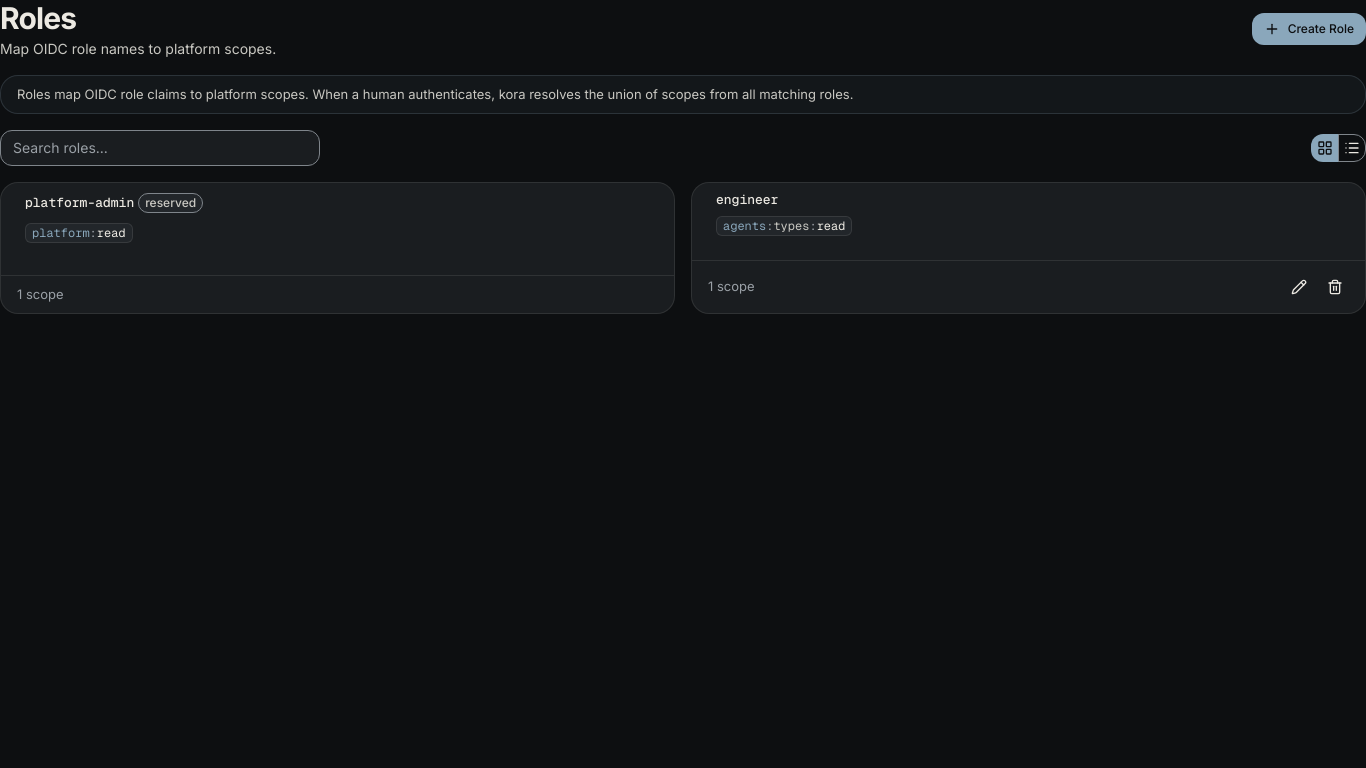
Scenario: RolesTab without the scope vocabulary › lists roles without an error and limits the editor to the role scopes
What coordinates should you click on to do the following:
click the button named "Edit role"
I would click on:
 (1299, 286)
Its box is x1=1285 y1=272 x2=1313 y2=300.
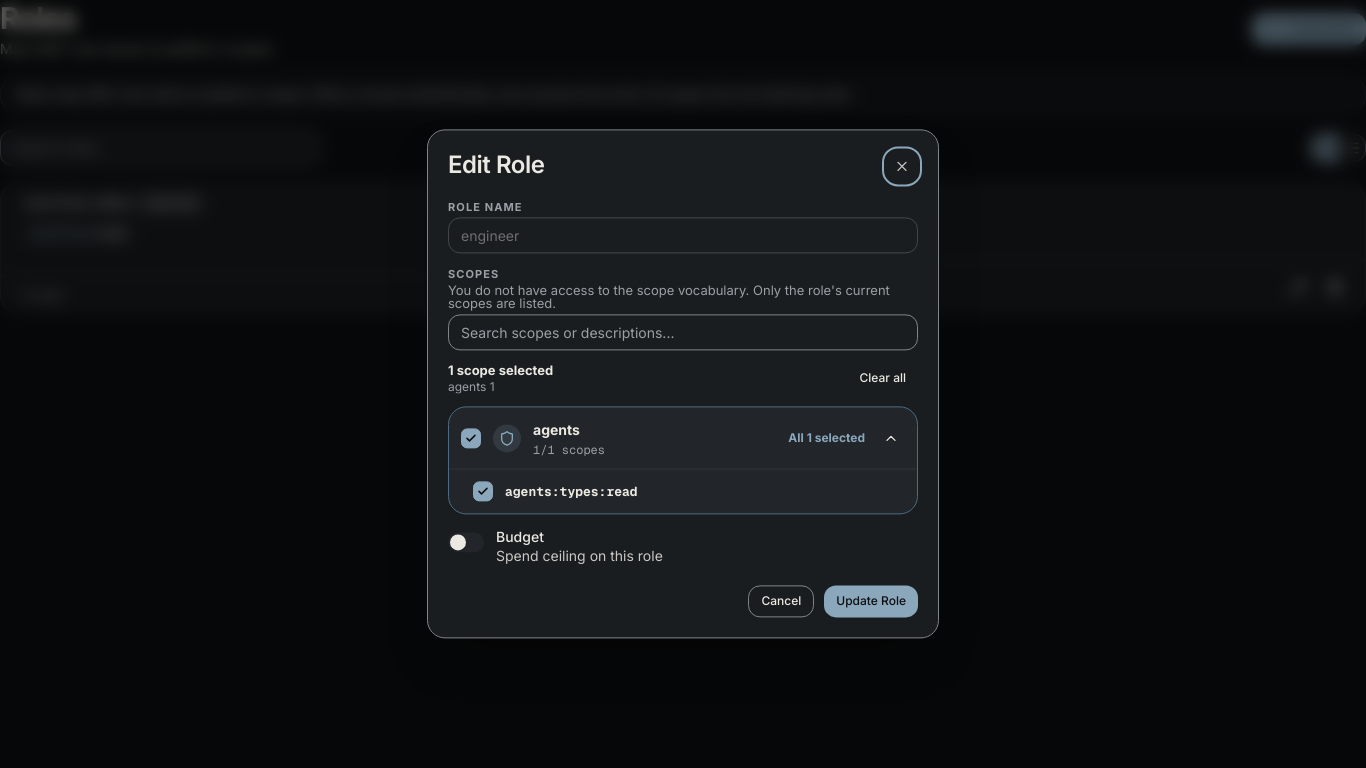
Check: the text "agents:types:read" is shown, box x1=505 y1=483 x2=638 y2=500
